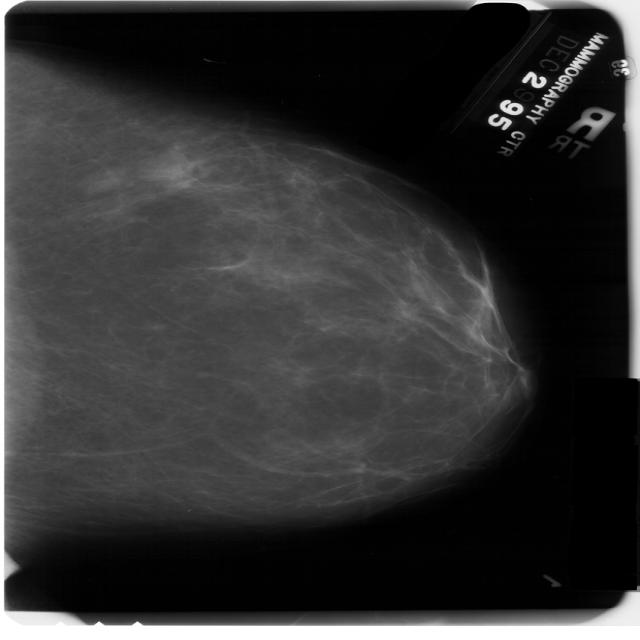tumour: (135, 150, 194, 189)
